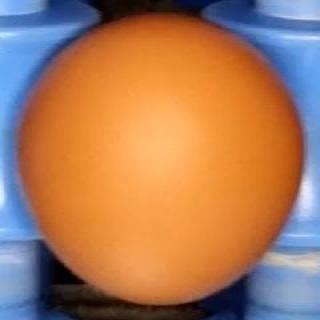Telur: (16, 12, 308, 306)
